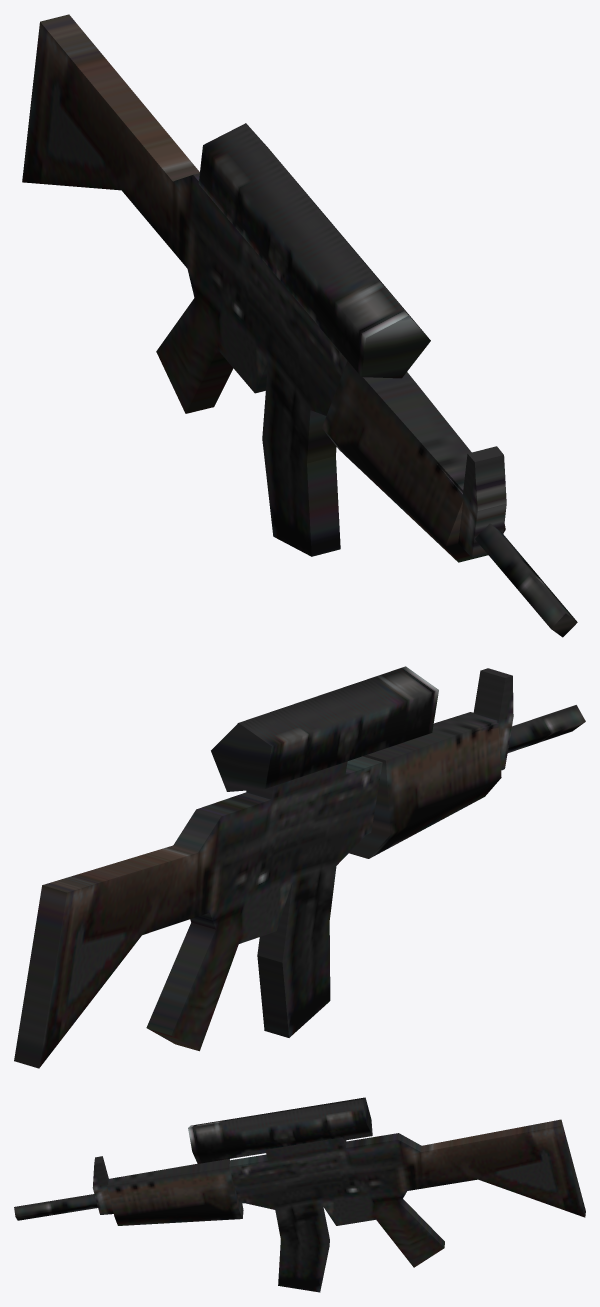
Rendered from sg552-world.glb.
The picture shows the model from 3 angles, top to bottom: view 1: azimuth 30°, elevation 25°; view 2: azimuth 150°, elevation 25°; view 3: azimuth 270°, elevation 25°; orthographic projection. The views are drawn at different scales.
Parts seen in each view (by area): view 1: sg552 held; view 2: sg552 held; view 3: sg552 held.
Boxes of the visible parts, x1=… form: sg552 held: x1=22, y1=14, x2=577, y2=637; sg552 held: x1=14, y1=666, x2=585, y2=1068; sg552 held: x1=14, y1=1097, x2=585, y2=1292.
Bounding box in the file's own units: 0.0625 × 0.2804 × 0.7663.
Materials: 1 (1 with a texture image).
